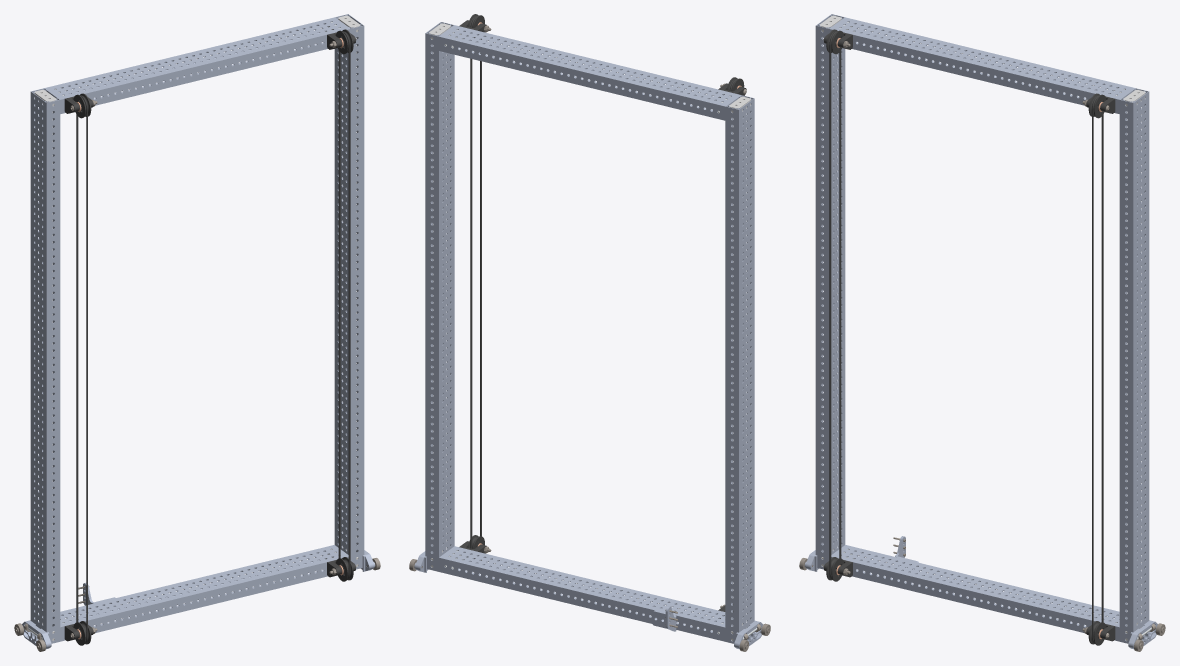
3 views of the same model, side by side, from view 1: azimuth 30°, elevation 25°; view 2: azimuth 150°, elevation 25°; view 3: azimuth 330°, elevation 25° (orthographic).
Visible parts, largest first — view 1: (2) 1st V tube (×2), (2) 1st H tube (×2), (2) String 1 (×2); view 2: (2) 1st V tube (×2), (2) 1st H tube (×2), (2) String 1; view 3: (2) 1st V tube (×2), (2) 1st H tube (×2), (2) String 1 (×2).
Part boxes in pixels (x1=…): (2) 1st V tube (×2): x1=30, y1=14, x2=364, y2=643; (2) 1st H tube (×2): x1=45, y1=17, x2=350, y2=641; (2) String 1 (×2): x1=76, y1=31, x2=350, y2=643; (2) 1st V tube (×2): x1=425, y1=22, x2=754, y2=643; (2) 1st H tube (×2): x1=439, y1=25, x2=740, y2=641; (2) String 1: x1=470, y1=15, x2=481, y2=548; (2) 1st V tube (×2): x1=815, y1=14, x2=1149, y2=643; (2) 1st H tube (×2): x1=829, y1=17, x2=1134, y2=641; (2) String 1 (×2): x1=829, y1=31, x2=1103, y2=643.
Size of the model in its own units: 0.6258 by 0.9716 by 0.127.
